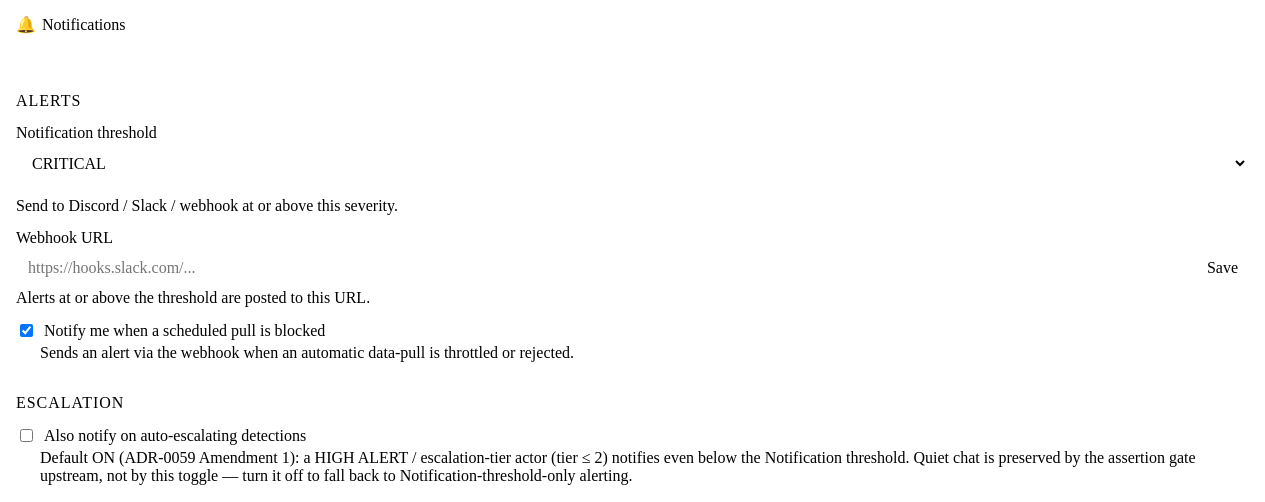
Test: NotificationsPanel — WebhookField › surfaces 422 anti-SSRF error from Pydantic detail array
In the field with test id "webhook-url-input": (602, 268) [16, 251, 1189, 285], type "http://localhost/hook"
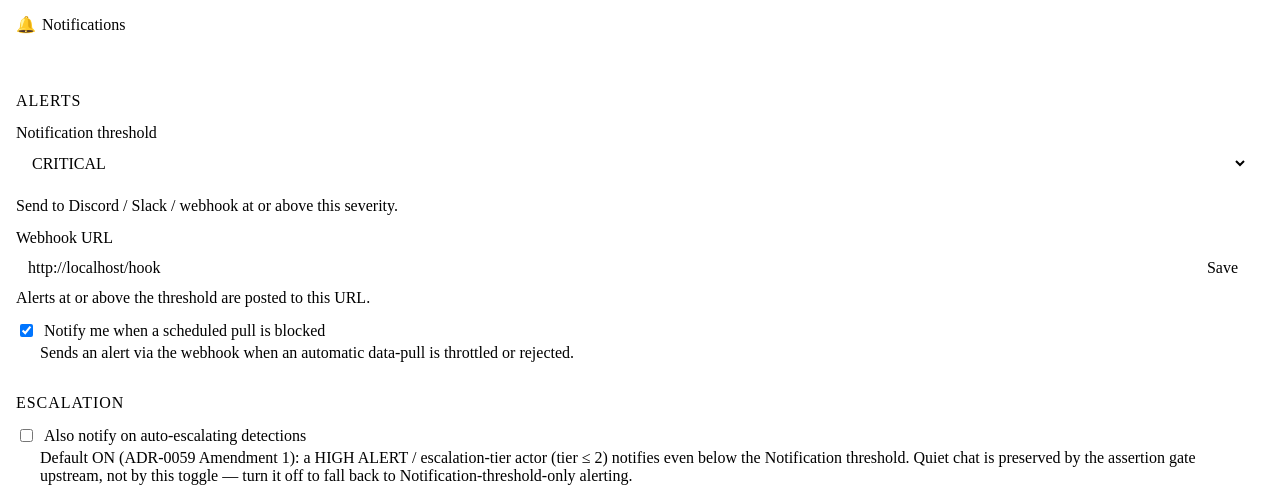
Click the button with test id "webhook-url-save": (1222, 268) [1197, 251, 1248, 285]
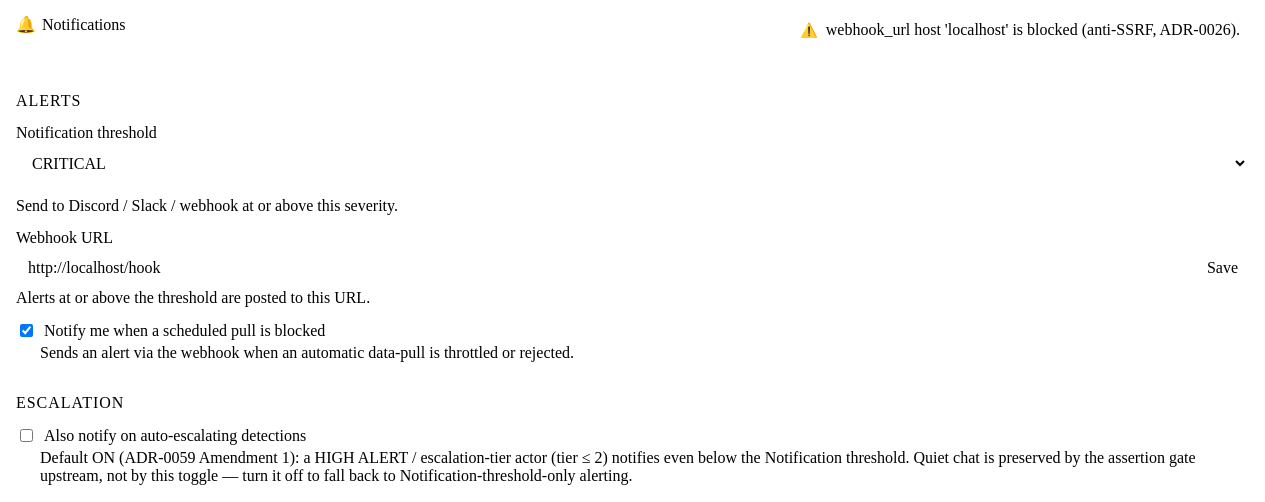
Expected: the message shows "anti-SSRF", [826, 21, 1240, 38]
